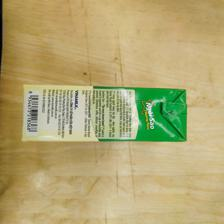NSPN_Hop: (19, 82, 190, 146)
